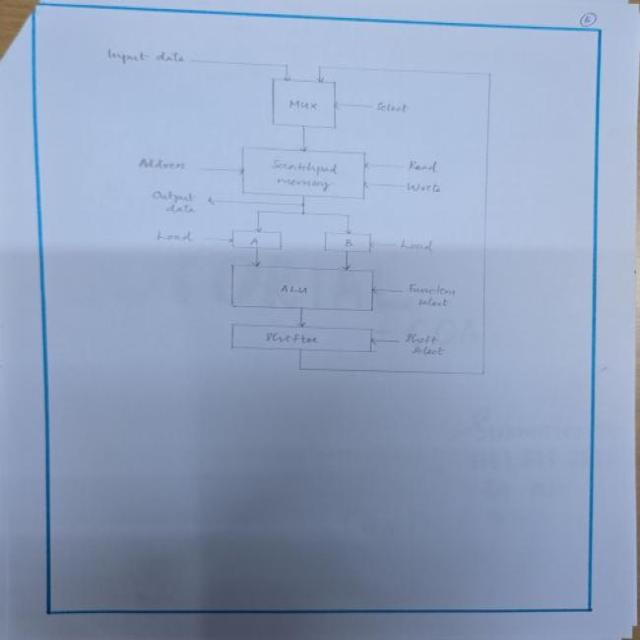Figure Detection - v3 Dataset Version2: (79, 31, 508, 395)
